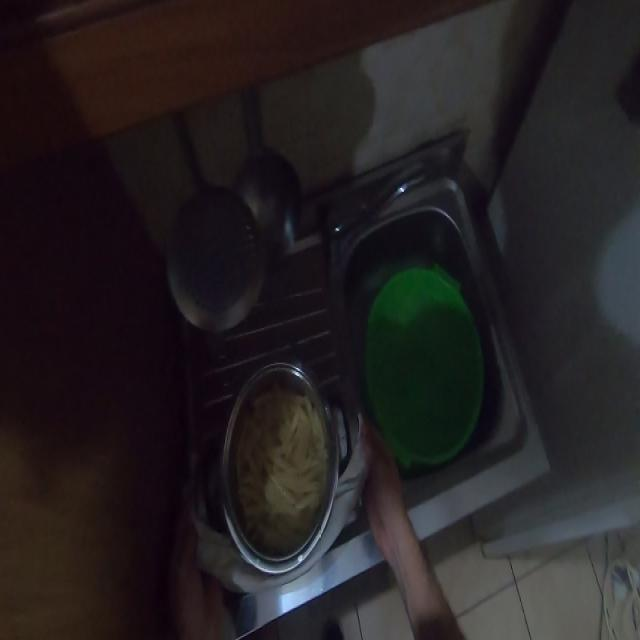pan: (153, 117, 264, 348)
pot: (197, 377, 351, 585)
right hand: (357, 408, 403, 568)
tap: (314, 132, 466, 222)
